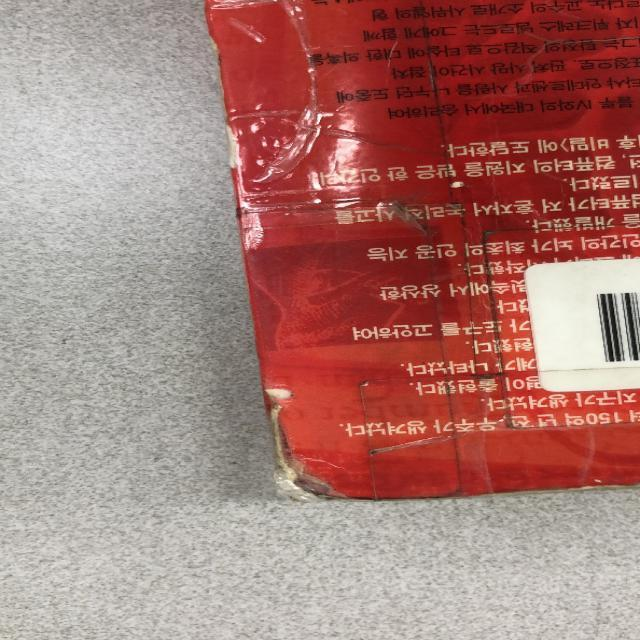Wornout: (260, 386, 360, 505), (222, 123, 248, 174)
